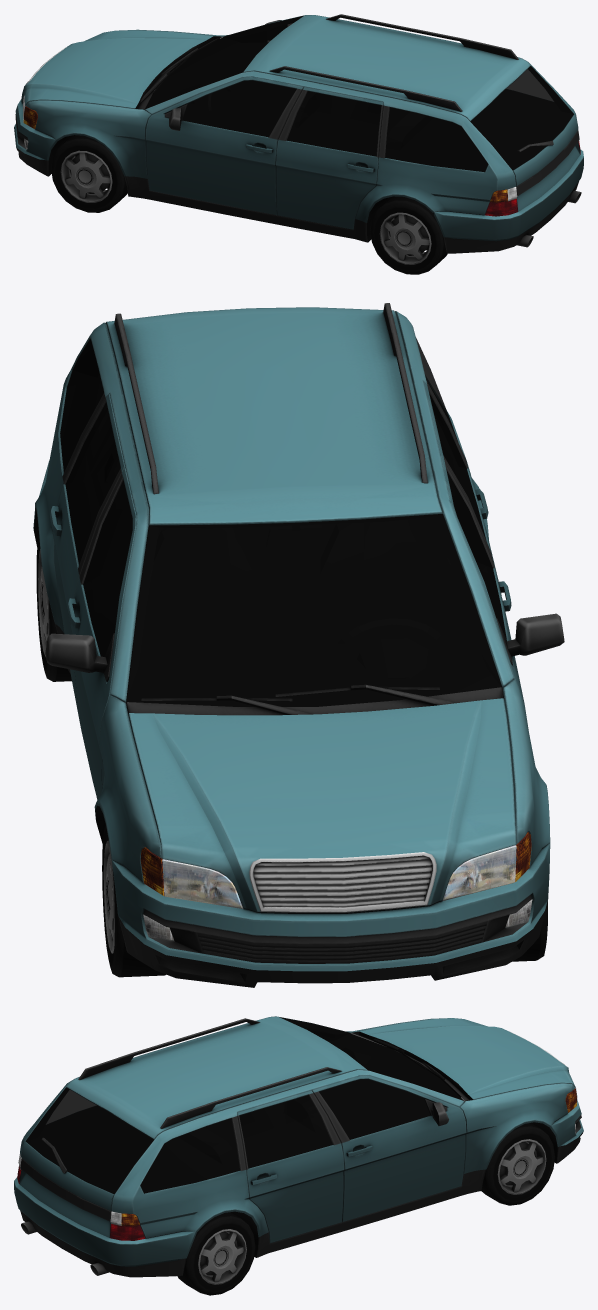
File: stationwagon.glb
3 views of the same model, one above another, from view 1: azimuth 30°, elevation 25°; view 2: azimuth 150°, elevation 25°; view 3: azimuth 270°, elevation 25° (orthographic). The views are drawn at different scales.
Parts seen in each view (by area): view 1: Wagon Body, Wheel_A001_Wheel_0.001, Wheel_A_Wheel_0.001; view 2: Wagon Body, Wheel_A002_Wheel_0.001, Wheel_A003_Wheel_0.001; view 3: Wagon Body, Wheel_A003_Wheel_0.001, Wheel_A002_Wheel_0.001.
Boxes of the visible parts, x1,y1,x2,y2 form: Wagon Body: (14,14,583,253); Wheel_A001_Wheel_0.001: (370,196,447,274); Wheel_A_Wheel_0.001: (51,135,127,212); Wagon Body: (33,303,564,987); Wheel_A002_Wheel_0.001: (102,824,165,977); Wheel_A003_Wheel_0.001: (36,534,71,681); Wagon Body: (14,1016,583,1277); Wheel_A003_Wheel_0.001: (177,1212,255,1295); Wheel_A002_Wheel_0.001: (481,1123,554,1205).
Size of the model in its own units: 3.43 by 1.38 by 4.09.
4 materials, 3 textured.
